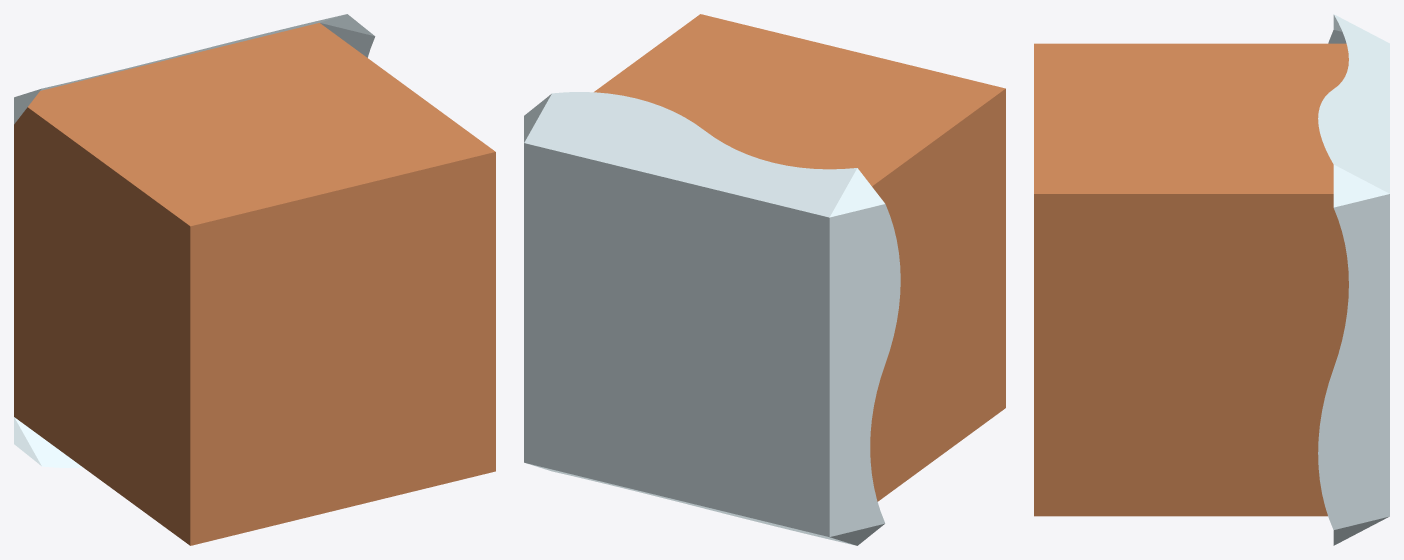
File: blockSnow.obj
3 views of the same model, side by side, from view 1: azimuth 30°, elevation 25°; view 2: azimuth 150°, elevation 25°; view 3: azimuth 270°, elevation 25° (orthographic).
Parts seen in each view (by area): view 1: blockSnow.003; view 2: blockSnow.003; view 3: blockSnow.003.
Boxes of the visible parts, x1,y1,x2,y2 form: blockSnow.003: (14, 14, 495, 545); blockSnow.003: (524, 14, 1005, 545); blockSnow.003: (1034, 14, 1389, 545).
Size of the model in its own units: 1.23 by 1.23 by 1.
